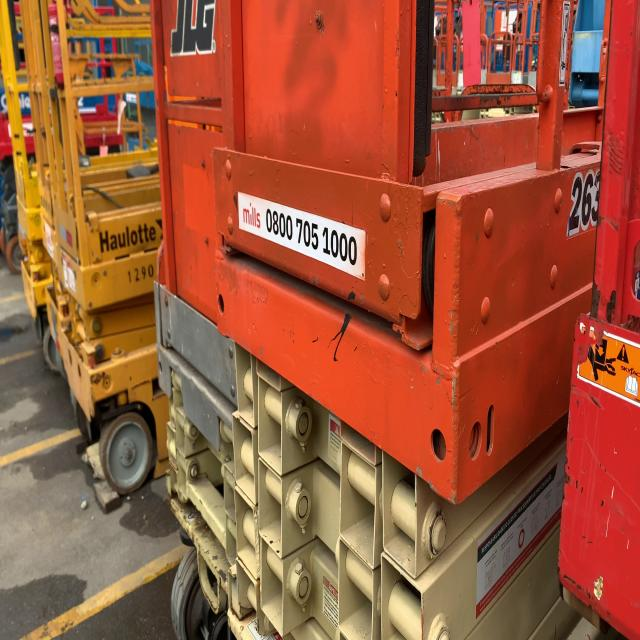Adesivo Longo: (237, 188, 368, 285)
